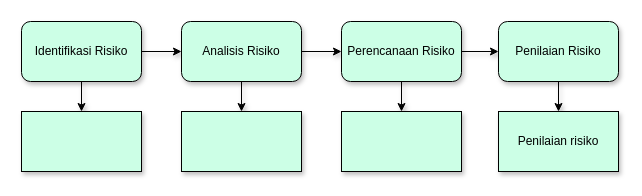
This 642x196 diagram has some shape labels left out. Here are the shapes that lost their labels. From the top down, the centre of each, then its label:
the point at 82,142: Daftar potensi risiko
the point at 242,142: Daftar risiko yang diprioritaskan
the point at 402,142: Penanggulangan risiko dan rencana kontingensi
